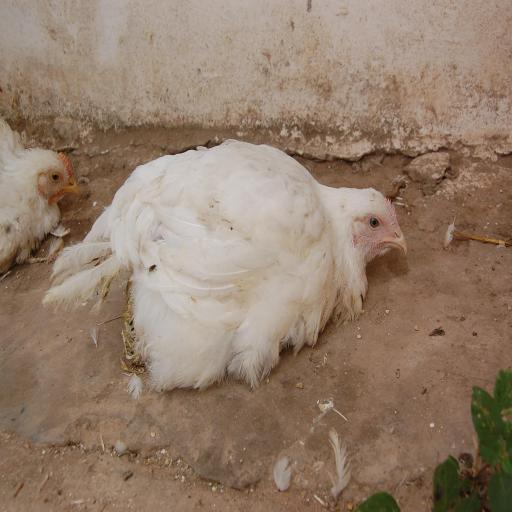healthy: (338, 182, 406, 279)
